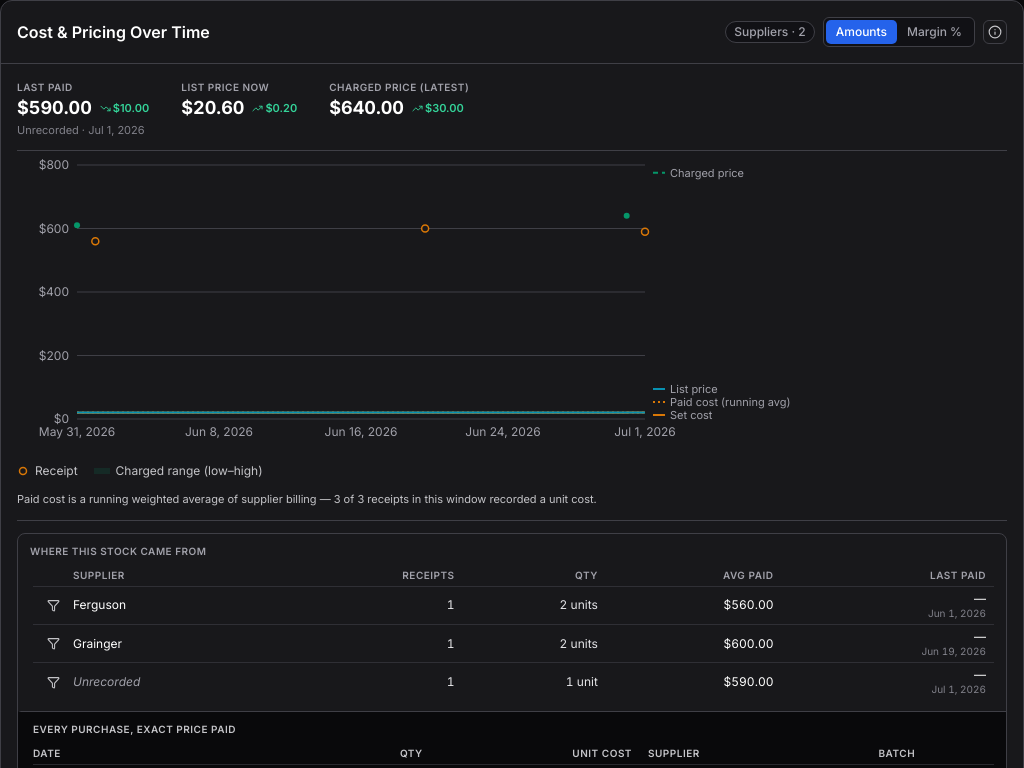
Test case: CostPriceTrendChart › supplier origin › filters to the unattributed bucket, whose key is the empty string
Click the button named "Show only unrecorded purchases" at (53, 682), box [41,670,65,694]
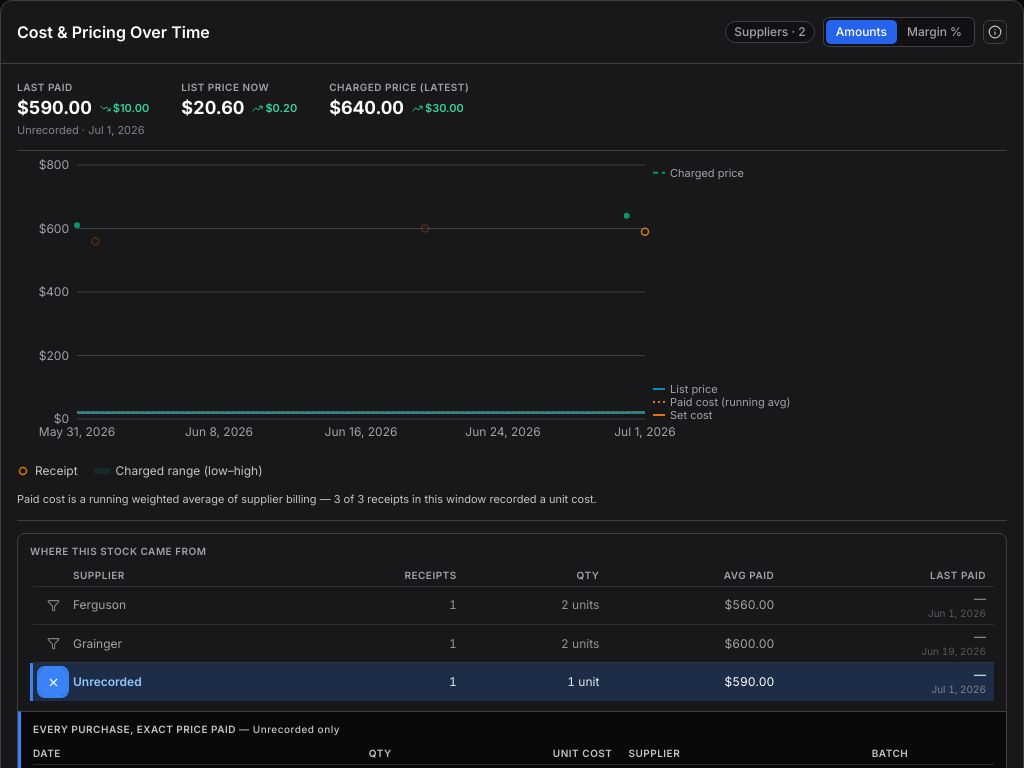
Now the text "Every purchase, exact price paid" shows "Unrecorded only", box [33,723,340,735]
